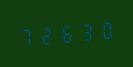seven: (18, 24, 36, 49)
six: (56, 20, 74, 46)
three: (75, 19, 93, 44)
two: (37, 22, 55, 47)
zero: (94, 17, 112, 42)
